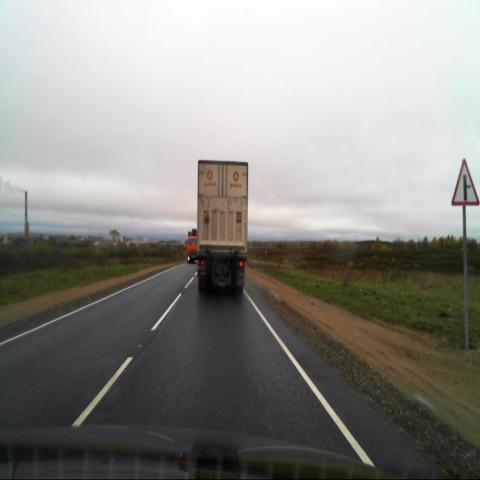2_3_2: (451, 158, 479, 206)
